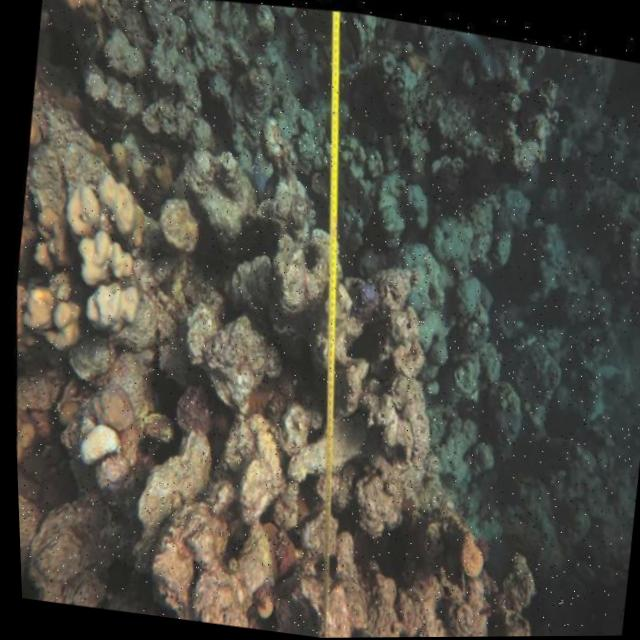Dead Coral: (0, 0, 411, 629), (252, 5, 640, 639)
